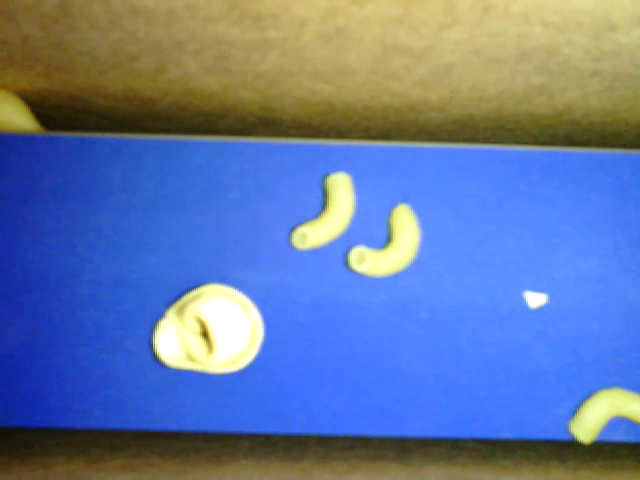elbow: (287, 168, 357, 251), (345, 200, 422, 275), (566, 386, 639, 445)
shell: (1, 90, 49, 132)
tortellini: (152, 282, 264, 372)
